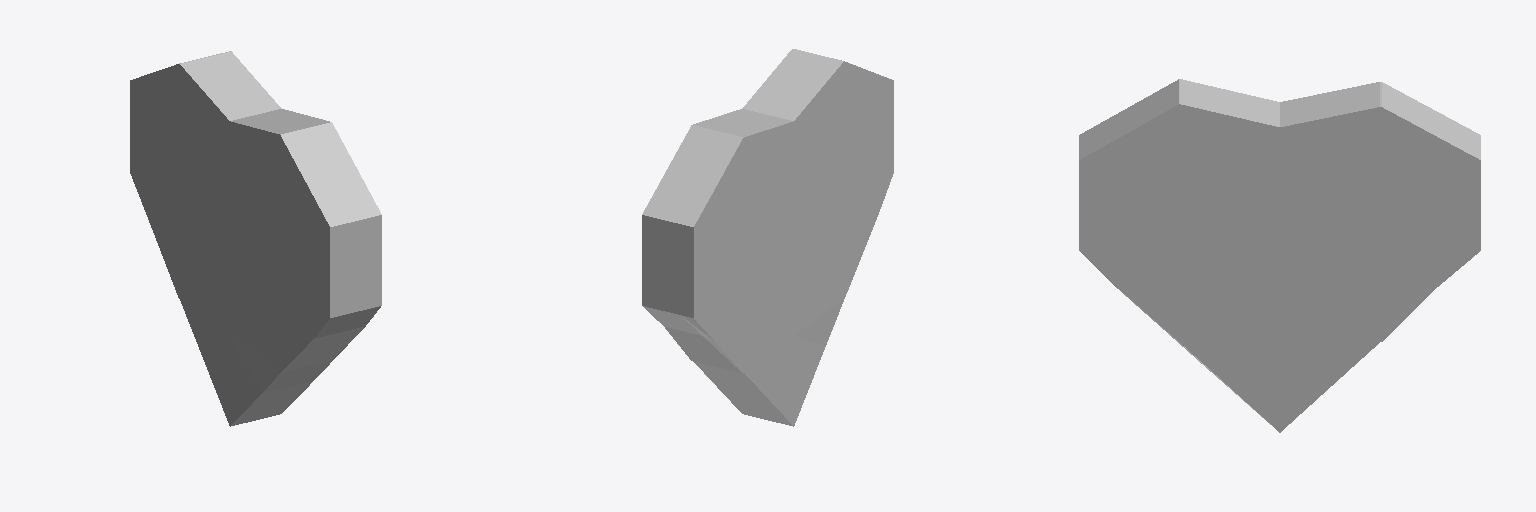
The model's file is hart.obj.
The picture shows the model from 3 angles: view 1: azimuth 30°, elevation 25°; view 2: azimuth 150°, elevation 25°; view 3: azimuth 270°, elevation 25°; orthographic projection.
Visible parts, largest first — view 1: Cube; view 2: Cube; view 3: Cube.
Part boxes in pixels (left/top/right/bottom): Cube: left=130, top=51, right=381, bottom=426; Cube: left=642, top=49, right=893, bottom=426; Cube: left=1079, top=79, right=1480, bottom=432.
Bounding box in the file's own units: 0.3002 × 1.81 × 2.